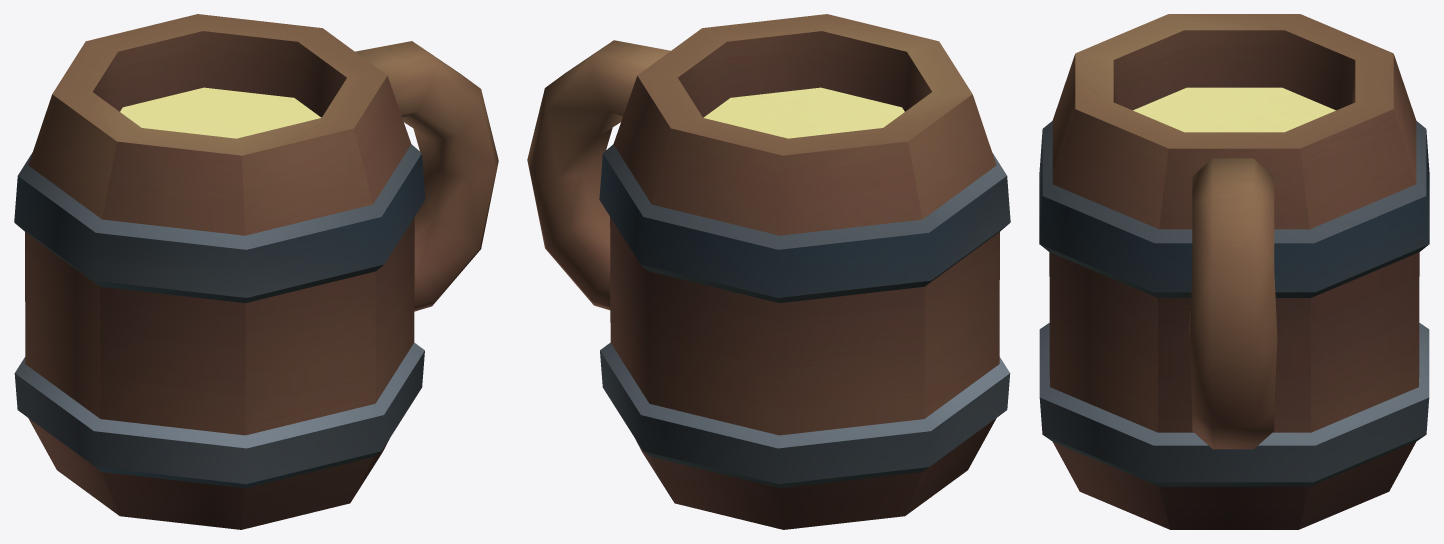
The model's file is mug_wood_small_beer.fbx.
3 views of the same model, side by side, from view 1: azimuth 30°, elevation 25°; view 2: azimuth 150°, elevation 25°; view 3: azimuth 270°, elevation 25° (orthographic).
Visible parts, largest first — view 1: mug_wood_small_beer; view 2: mug_wood_small_beer; view 3: mug_wood_small_beer.
Part boxes in pixels (left/top/right/bottom): mug_wood_small_beer: left=14, top=14, right=498, bottom=529; mug_wood_small_beer: left=527, top=14, right=1010, bottom=529; mug_wood_small_beer: left=1039, top=14, right=1429, bottom=529.
Bounding box in the file's own units: 32.46 × 26.92 × 24.85.
